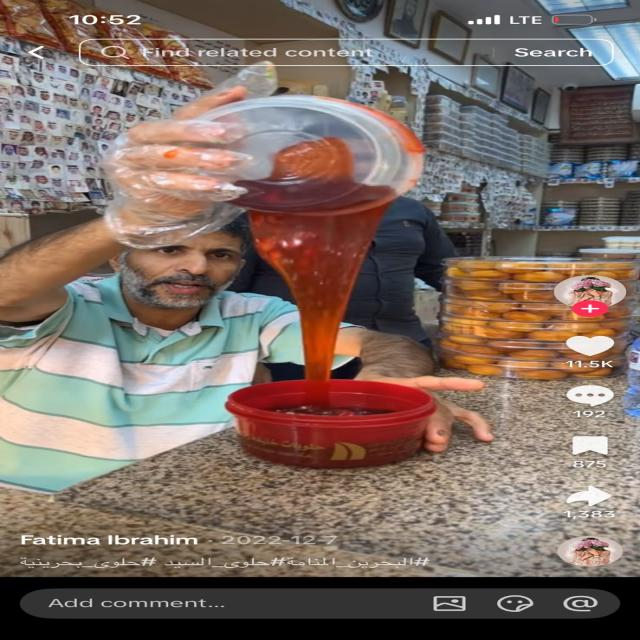Halwa: (212, 165, 445, 466)
